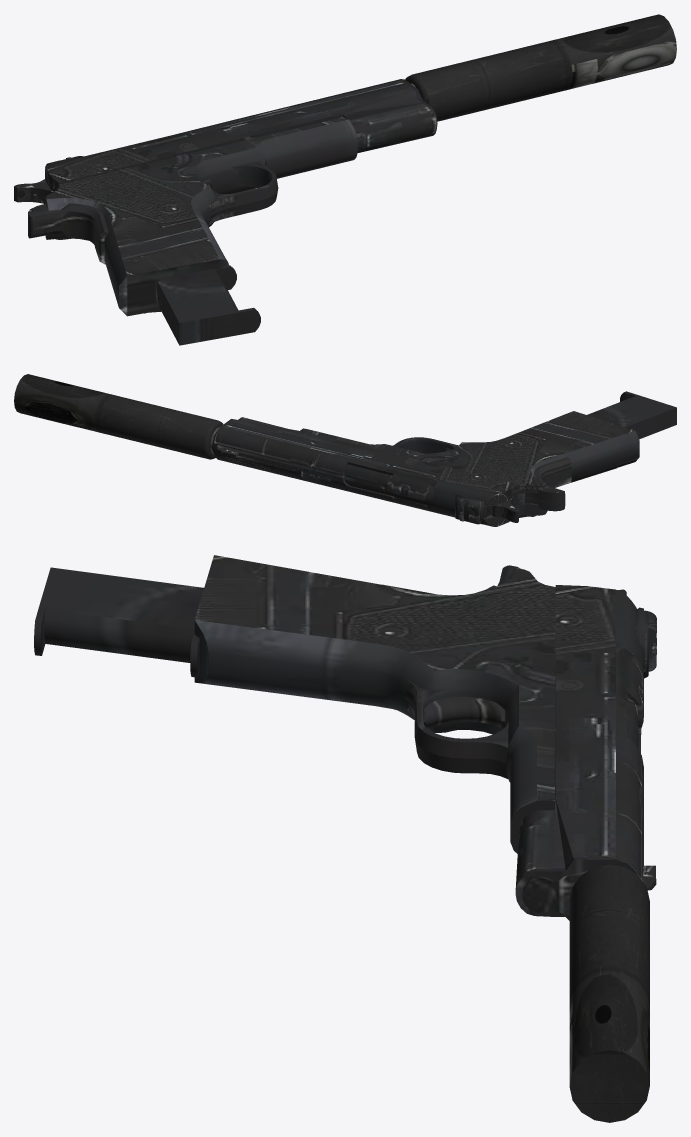
File: t5_weapon_1911_viewmodel.glb
3 renders of one model, top to bottom at view 1: azimuth 30°, elevation 25°; view 2: azimuth 150°, elevation 25°; view 3: azimuth 270°, elevation 25°, orthographic. The views are drawn at different scales.
Parts seen in each view (by area): view 1: t5_weapon_1911_viewmodel; view 2: t5_weapon_1911_viewmodel; view 3: t5_weapon_1911_viewmodel.
Part boxes in pixels (x1=…): t5_weapon_1911_viewmodel: x1=14, y1=14, x2=676, y2=345; t5_weapon_1911_viewmodel: x1=14, y1=374, x2=676, y2=526; t5_weapon_1911_viewmodel: x1=34, y1=555, x2=656, y2=1122.
Bounding box in the file's own units: 0.3665 × 0.0295 × 0.1909.
2 materials, 2 textured.
